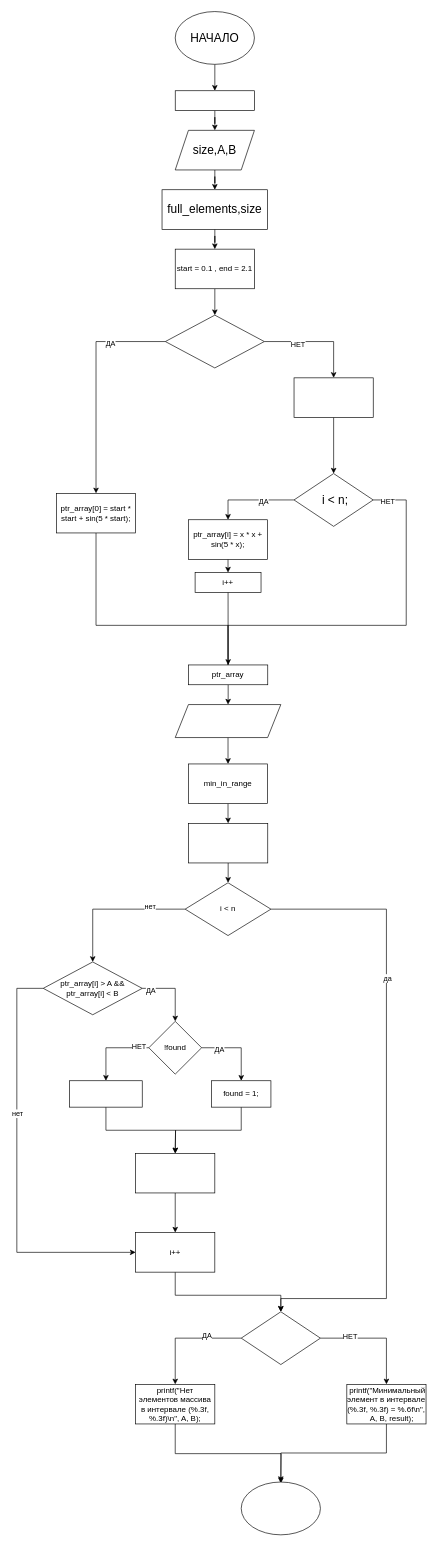
Some shapes in this 438 by 1546 pixel diagram are drawn without their labels. The centre of each missing label's shape, as x and y in pixels:
A,B: the point at 228,721
array[N]: the point at 214,100
found = 0; min_val = 0;: the point at 228,843
isnan(result): the point at 280,1338
min_val = ptr_array[i];: the point at 105,1093
n == 1: the point at 214,341
return NAN: the point at 175,1173
step = (end - start) / (n - 1);: the point at 333,397
КОНЕЦ: the point at 280,1508
